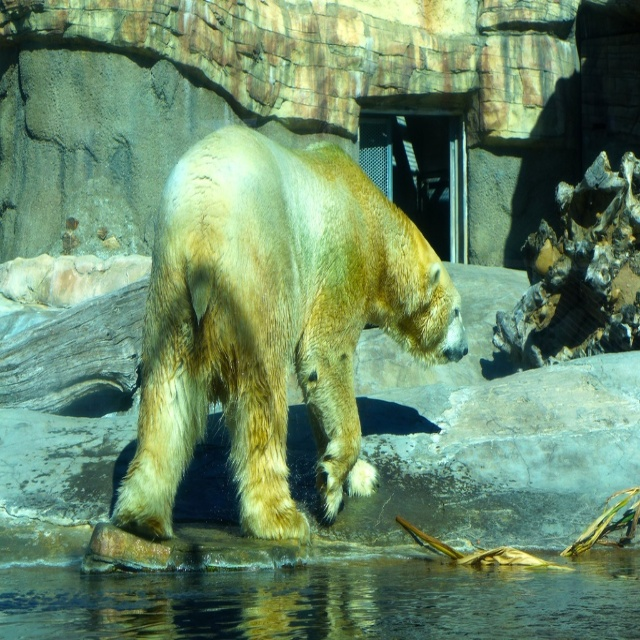Polar bear: (108, 119, 469, 539)
